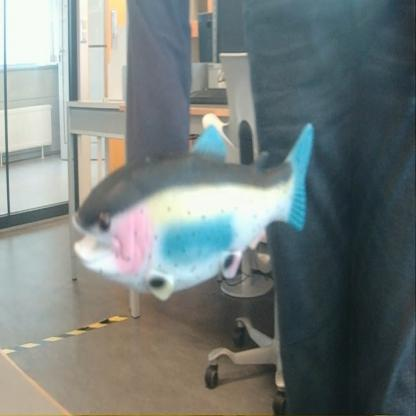rubberfish: (68, 107, 322, 304)
